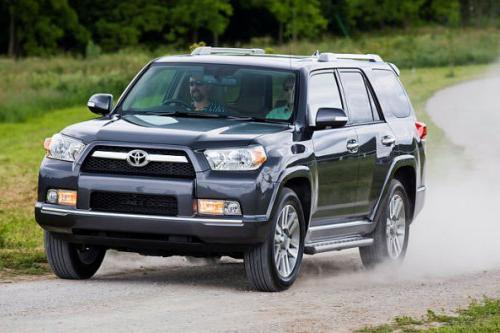Car: (22, 40, 438, 310)
